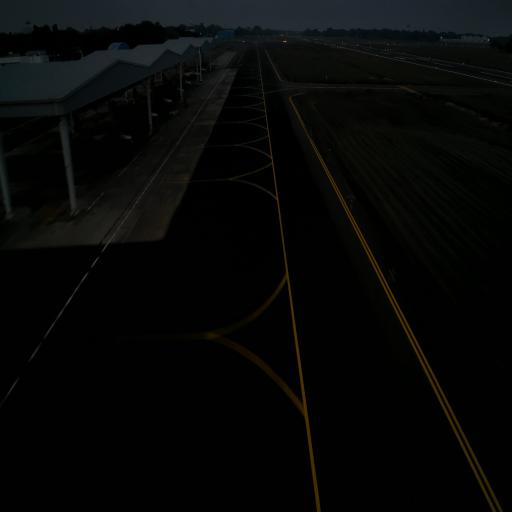on: (328, 147, 331, 153)
